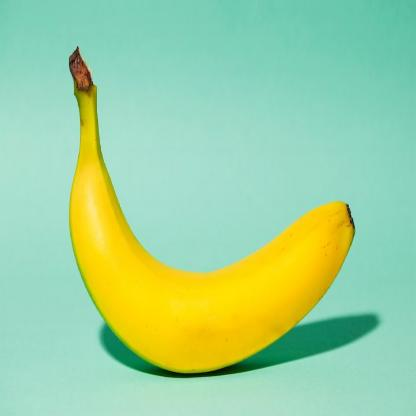banana: (64, 48, 366, 415)
